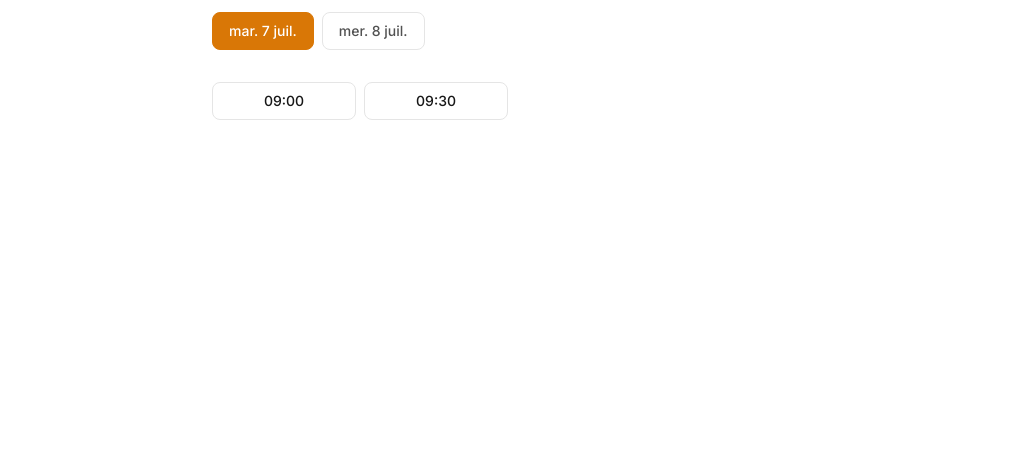
it: BookingSection › soumission valide → POST correct puis écran de confirmation avec lien visio
The image size is (1024, 463).
Click the button "09:00": (284, 101) [212,82,356,120]
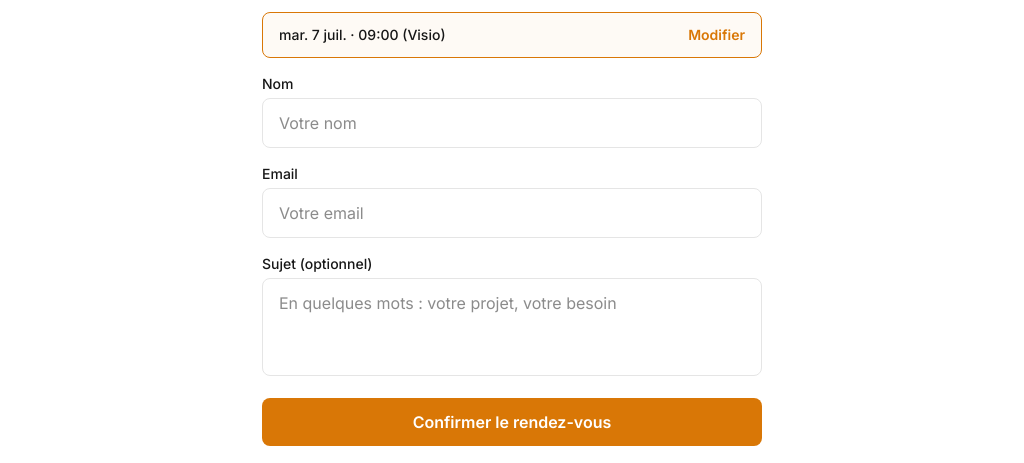
In the field labelled "Nom": (512, 123) [262,98,762,148], type "Jean Dupont"
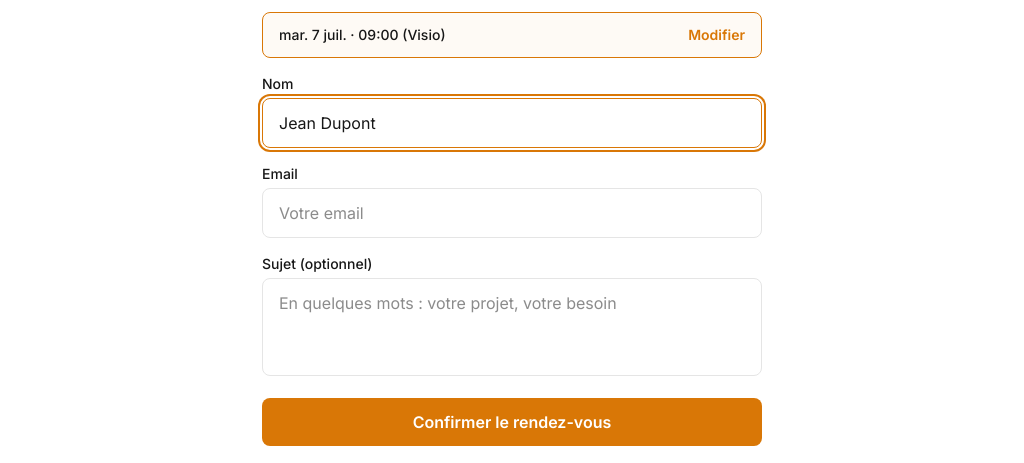
In the field labelled "Email": (512, 213) [262,188,762,238], type "jean@example.com"
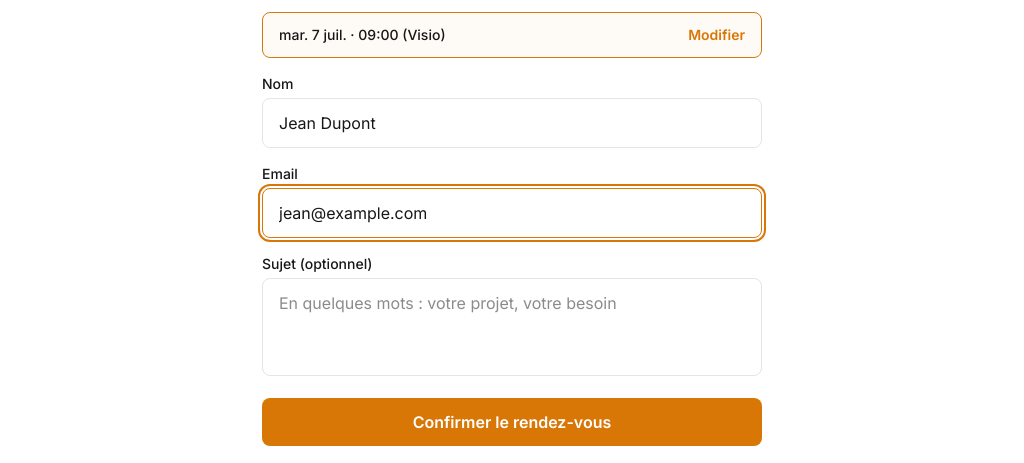
Click the button "Confirmer le rendez-vous": (512, 422) [262,398,762,446]
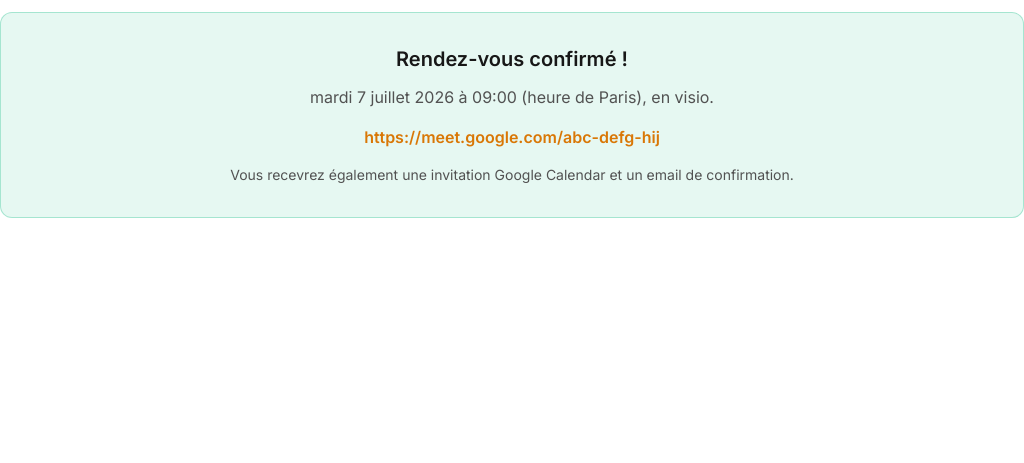
Expected: the heading "Rendez-vous confirmé !" is shown, [396,47,628,71]
